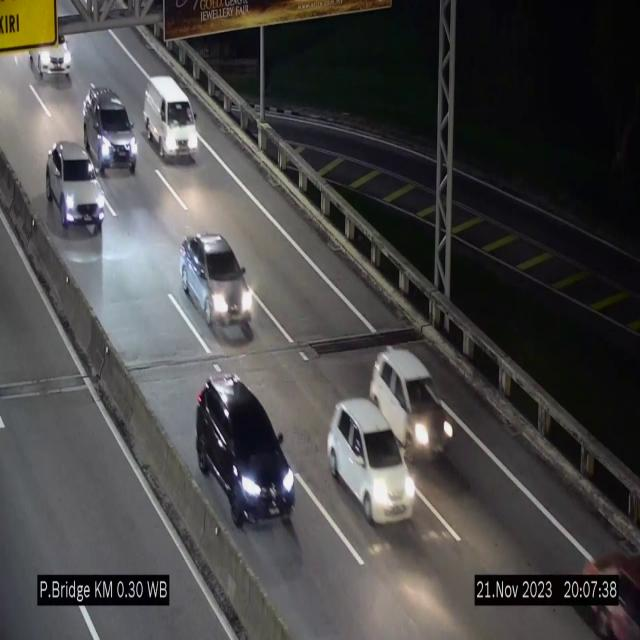Car: (196, 374, 296, 554), (327, 401, 417, 523), (370, 346, 454, 468), (180, 234, 256, 339), (46, 141, 106, 231), (83, 86, 137, 174), (143, 77, 199, 160)
